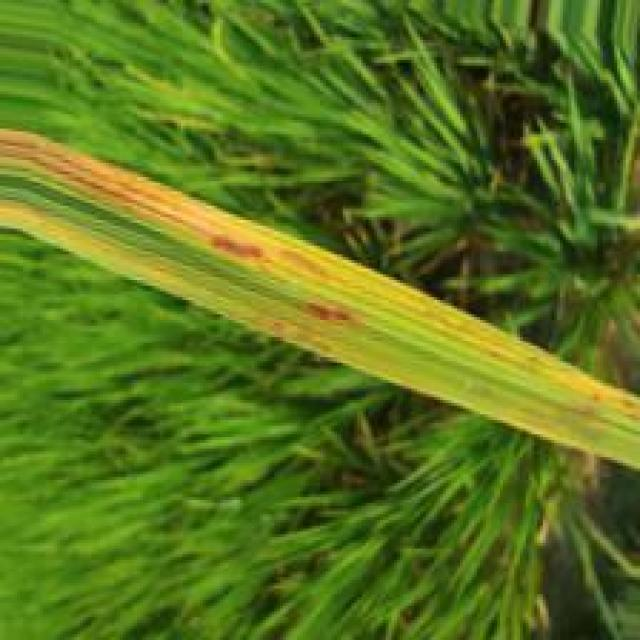Narrow_Brown_Leaf_Spot: (0, 128, 372, 285), (300, 299, 354, 325)
